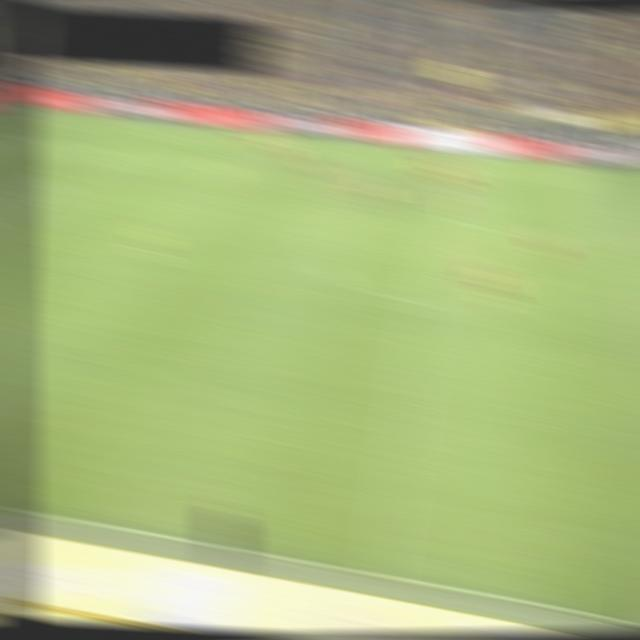bigarea_top_inner: (94, 140, 125, 157)
corner: (18, 102, 50, 120)
halfcircle_bottom: (407, 295, 439, 312)
halfcircle_top: (421, 211, 453, 227)
midline_bottom_intersection: (361, 561, 401, 587)
midline_top_intersection: (432, 145, 464, 162)
top_arc_area_intersection: (35, 170, 67, 187)
